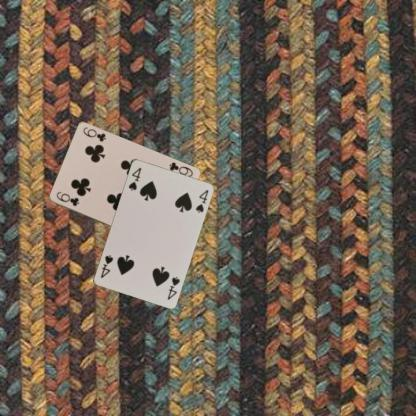4s: (126, 164, 142, 192), (165, 274, 181, 300)
6c: (167, 159, 194, 178), (54, 189, 80, 207)
